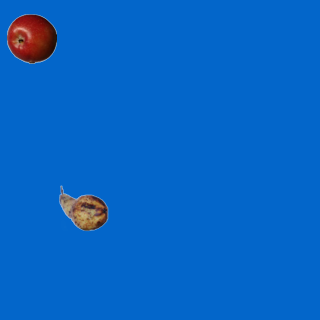Apple Braeburn: (6, 13, 56, 63)
Pear Abate: (58, 183, 108, 233)
